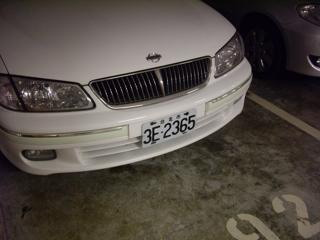plate: (139, 113, 197, 140)
